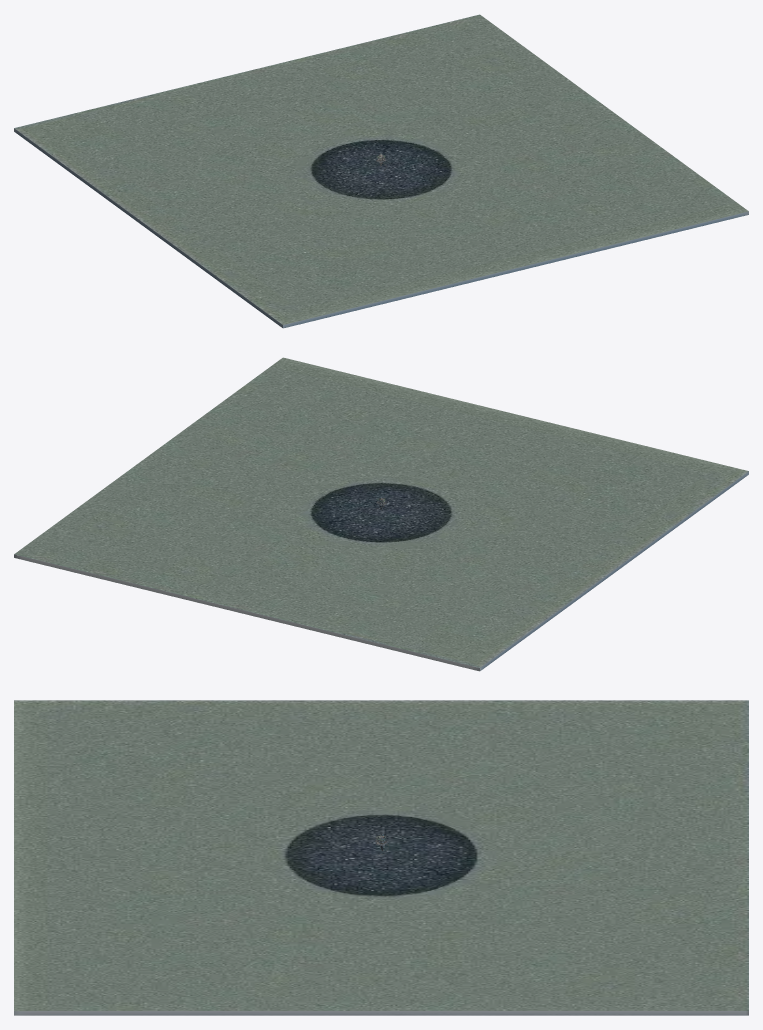
The model's file is holy_mountain.glb.
3 views of the same model, one above another, from view 1: azimuth 30°, elevation 25°; view 2: azimuth 150°, elevation 25°; view 3: azimuth 270°, elevation 25° (orthographic). The views are drawn at different scales.
Parts seen in each view (by area): view 1: mist_city; view 2: mist_city; view 3: mist_city.
Part boxes in pixels (<box>): mist_city: <box>14,14,748,328</box>; mist_city: <box>14,357,748,671</box>; mist_city: <box>14,700,748,1015</box>.
Size of the model in its own units: 26000 by 1046 by 26000.
35 materials, 35 textured.
